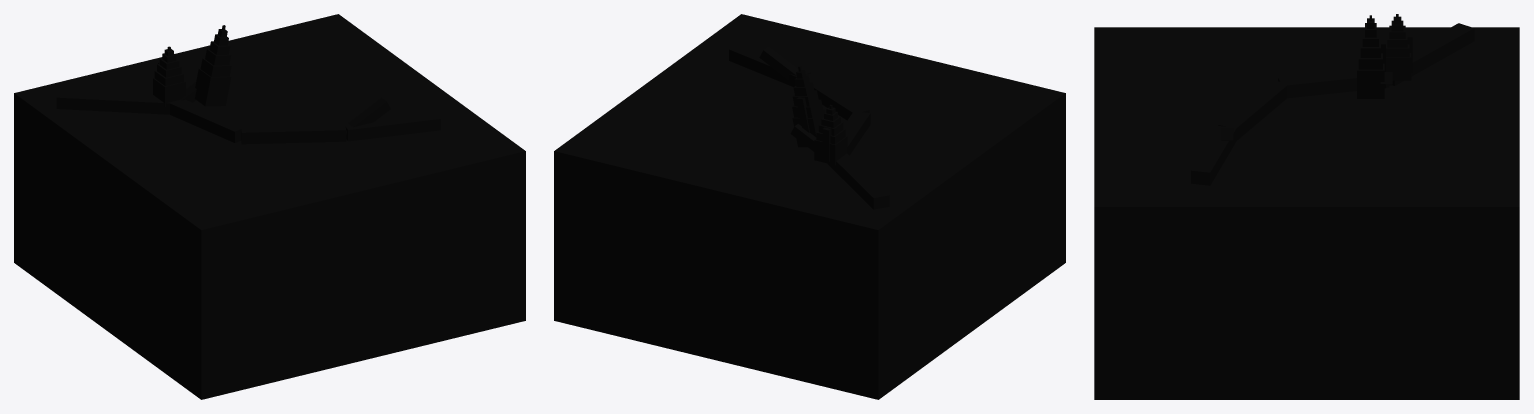
File: lab_slab_eroded.obj
3 renders of one model, left to right at view 1: azimuth 30°, elevation 25°; view 2: azimuth 150°, elevation 25°; view 3: azimuth 270°, elevation 25°, orthographic. The views are drawn at different scales.
Bounding box in the file's own units: 0.875 × 0.645 × 0.875.
